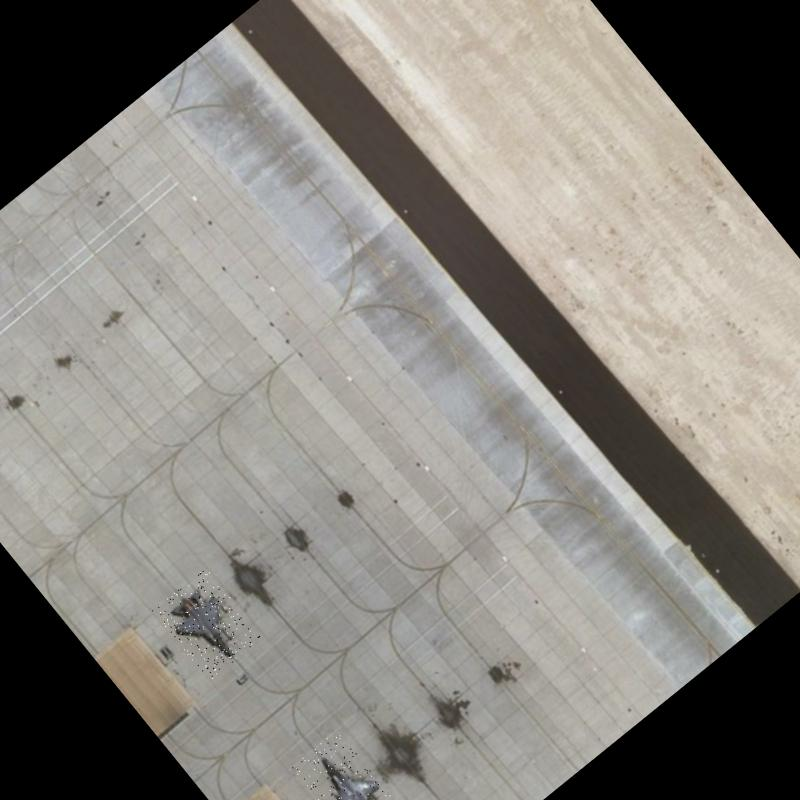A13: (152, 566, 263, 681), (289, 728, 396, 800)
